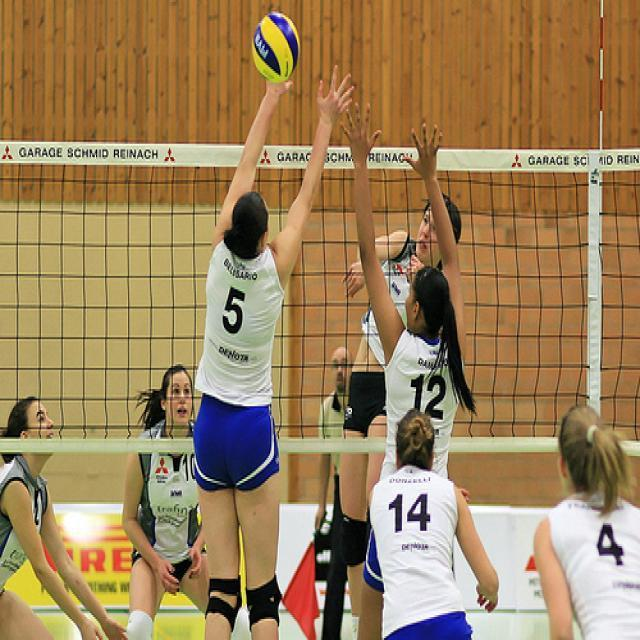volleyball: (252, 10, 300, 80)
